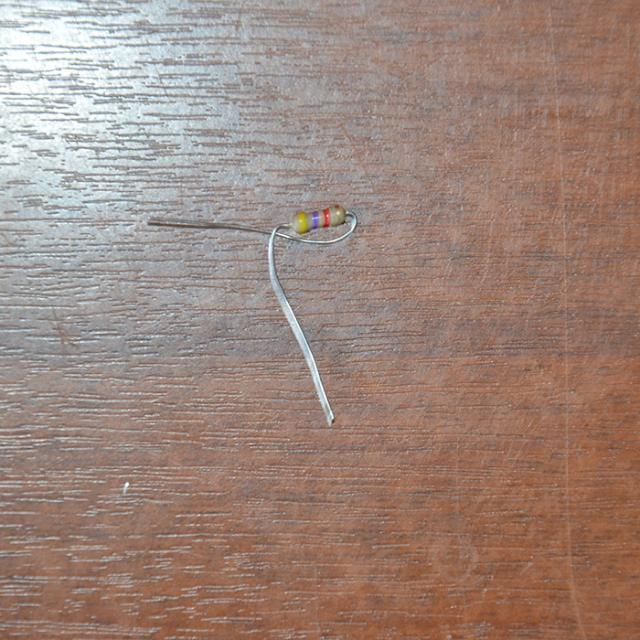gold: (335, 206, 343, 222)
red: (323, 209, 329, 225)
resistor: (279, 207, 352, 235)
violet: (312, 212, 319, 227)
yellow: (298, 213, 306, 232)
